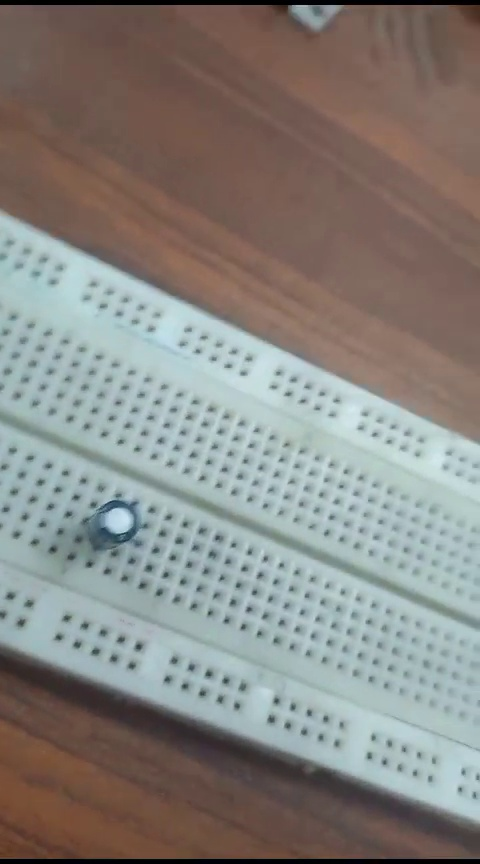capacitor: (76, 499, 144, 553)
